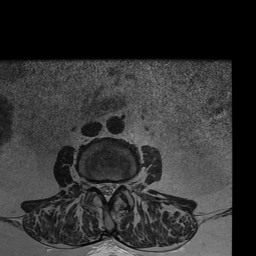CCS_normal: (103, 175, 110, 207)
LFS_severe_stenosis: (117, 172, 125, 194)
LLS_stenosis: (110, 174, 118, 199)
RFS_severe_stenosis: (89, 171, 96, 194)
RLS_normal: (95, 174, 103, 197)
